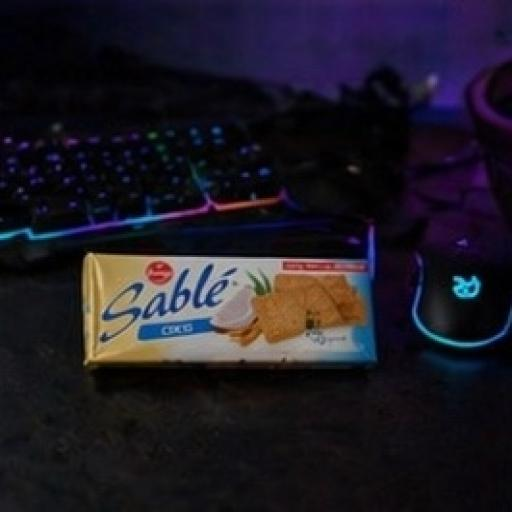sable: (52, 195, 451, 421)
